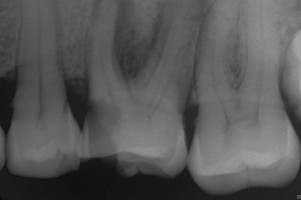Dental Caries: (113, 0, 212, 79)
